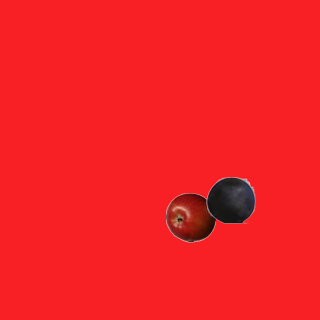Apple Braeburn: (165, 192, 215, 242)
Grape Blue: (205, 174, 255, 224)
